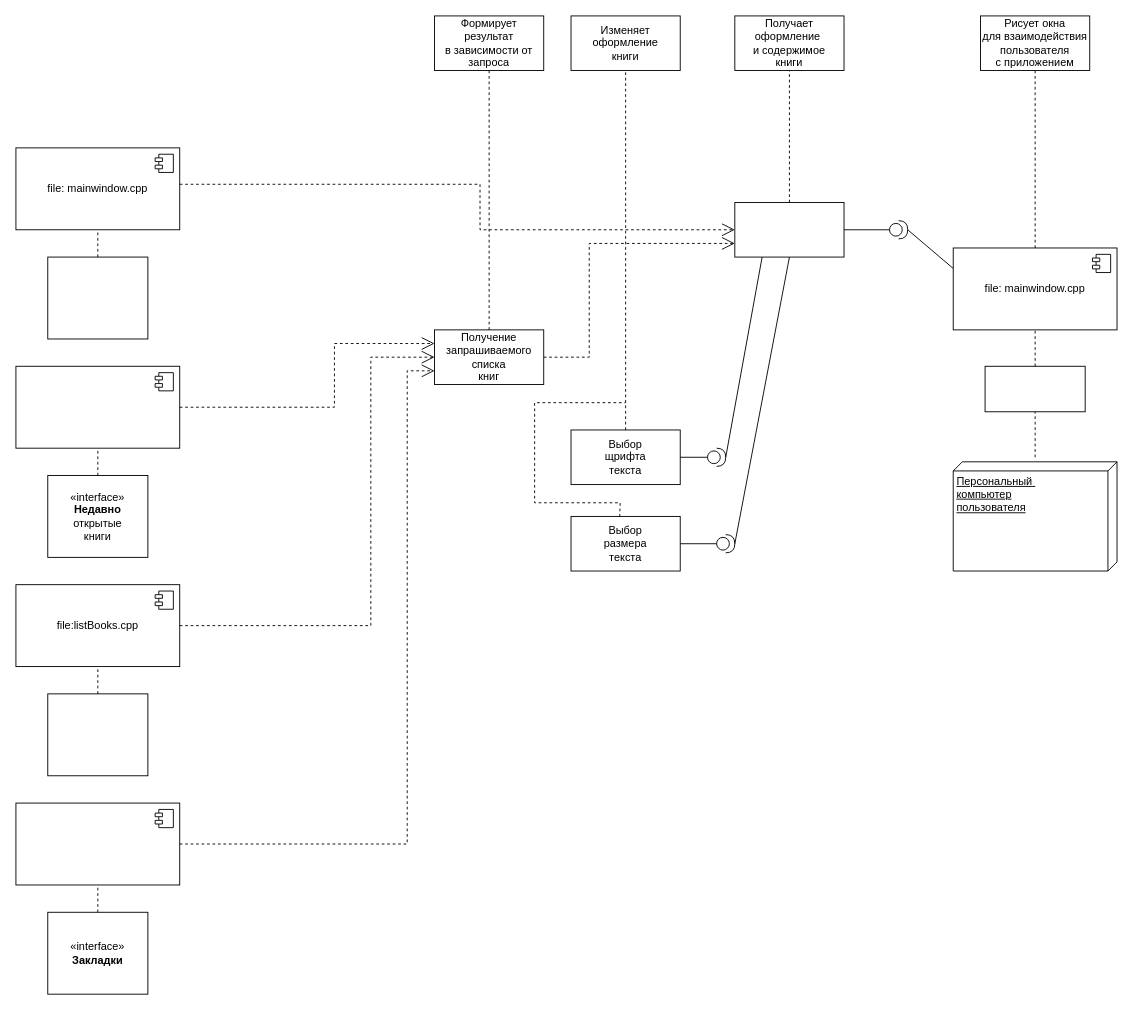
The diagram is 1133 pixels wide and 1010 high, and some of its shapes have lost their labels. The centre of each missing label's shape, as x and y in pixels:
"file: listBookMarks.cpp" goes at point 97,843.
"file: listBooks.cpp" goes at point 97,406.
"«interface» GUI приложения" goes at point 1034,388.
"«interface» Выбор книги" goes at point 97,297.
"«interface» Понравившиеся книги" goes at point 97,734.
"Открытие книги" goes at point 789,229.
